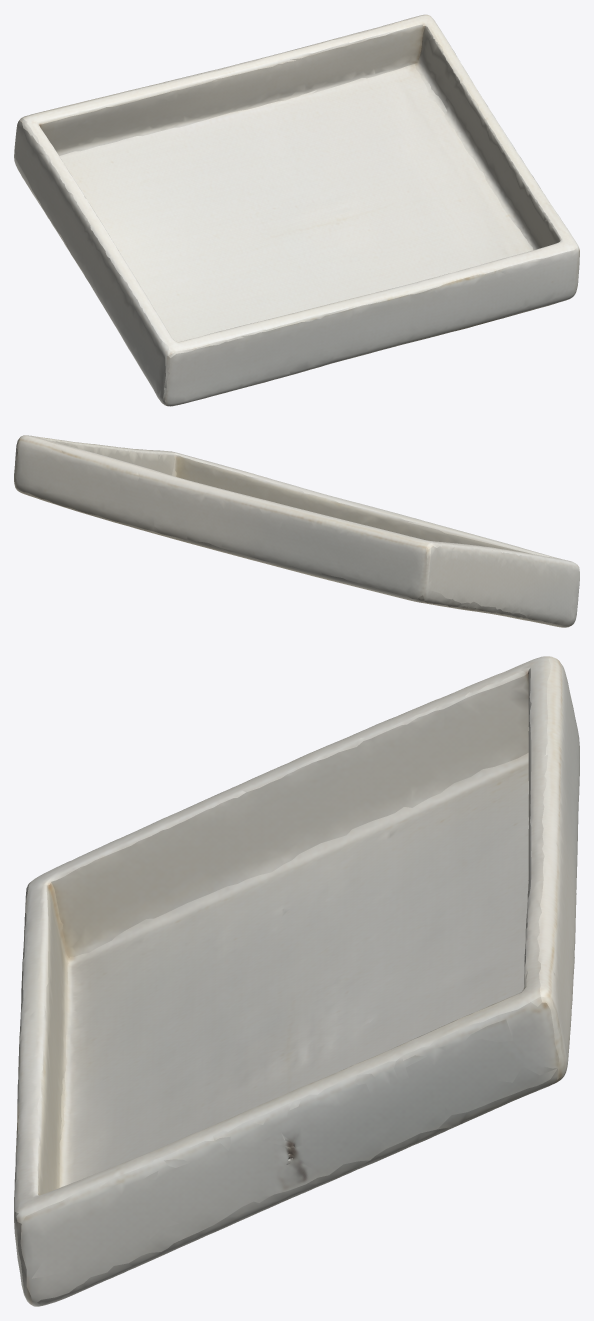
Rendered from original.glb.
The picture shows the model from 3 angles, top to bottom: view 1: azimuth 30°, elevation 25°; view 2: azimuth 150°, elevation 25°; view 3: azimuth 270°, elevation 25°; orthographic projection. The views are drawn at different scales.
Visible parts, largest first — view 1: world; view 2: world; view 3: world.
Part boxes in pixels (x1,y1,x2,y2): world: (14, 14, 579, 406); world: (14, 435, 579, 627); world: (14, 656, 579, 1306).
Size of the model in its own units: 0.25 by 0.1123 by 0.1679.
1 material, 1 textured.
